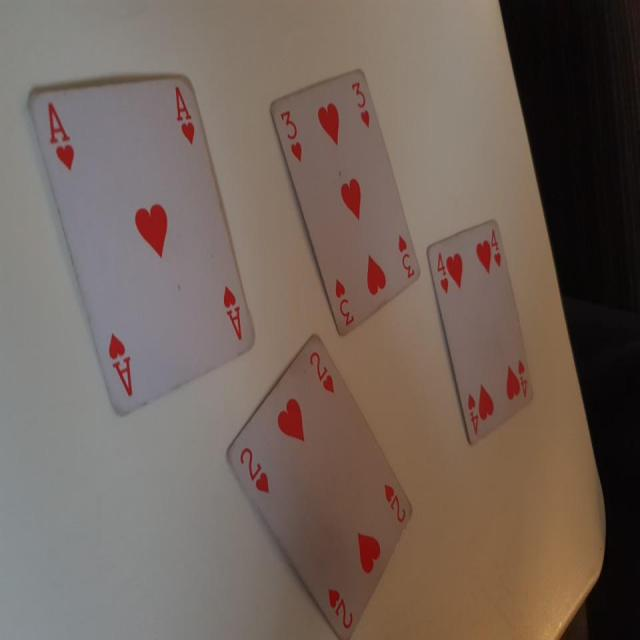2 Hearts: (218, 328, 419, 631)
3 Hearts: (265, 63, 429, 342)
4 Hearts: (423, 218, 537, 453)
A Hearts: (24, 52, 258, 424)
